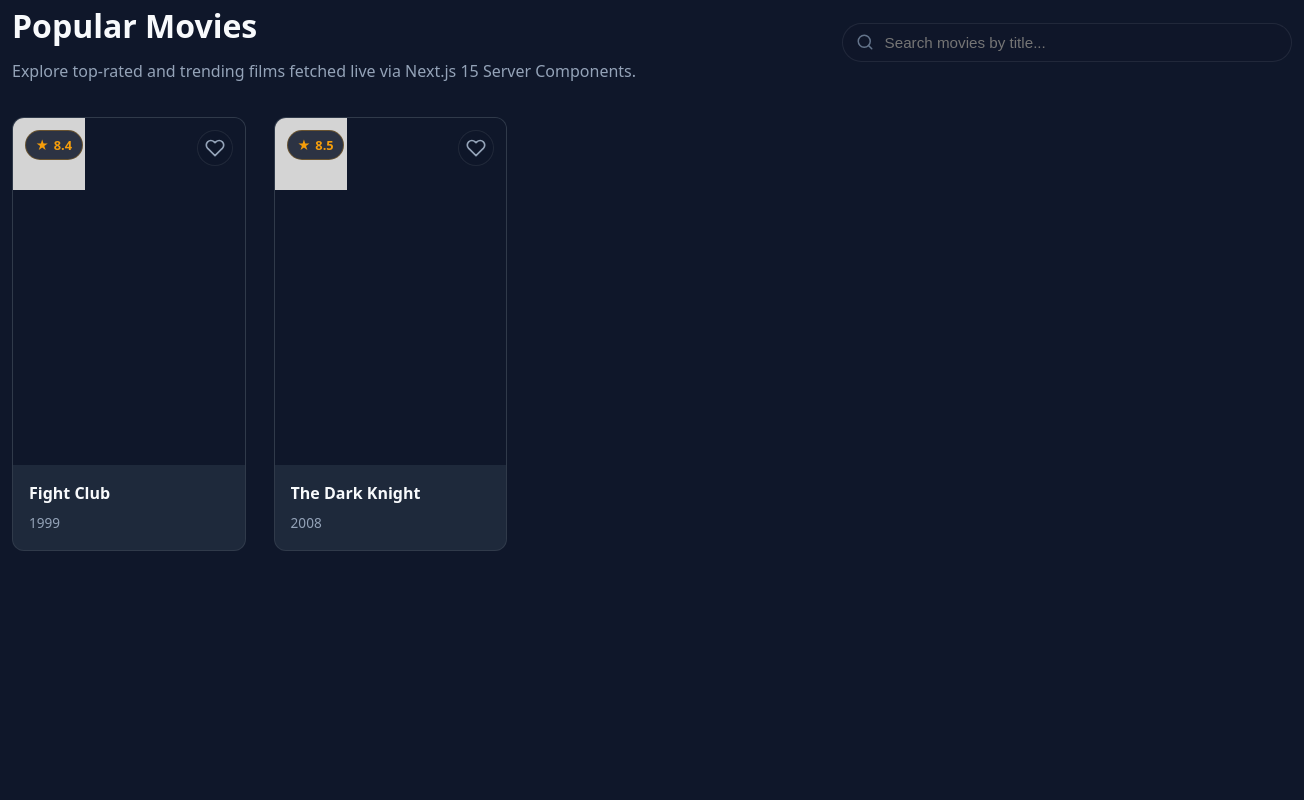
Test case: MovieExplorer Async Component Test › handles API rejection gracefully without crashing
Type "ErrorQuery" into the search field at (1067, 42), box [842,22,1292,62]
Wait 450 ms
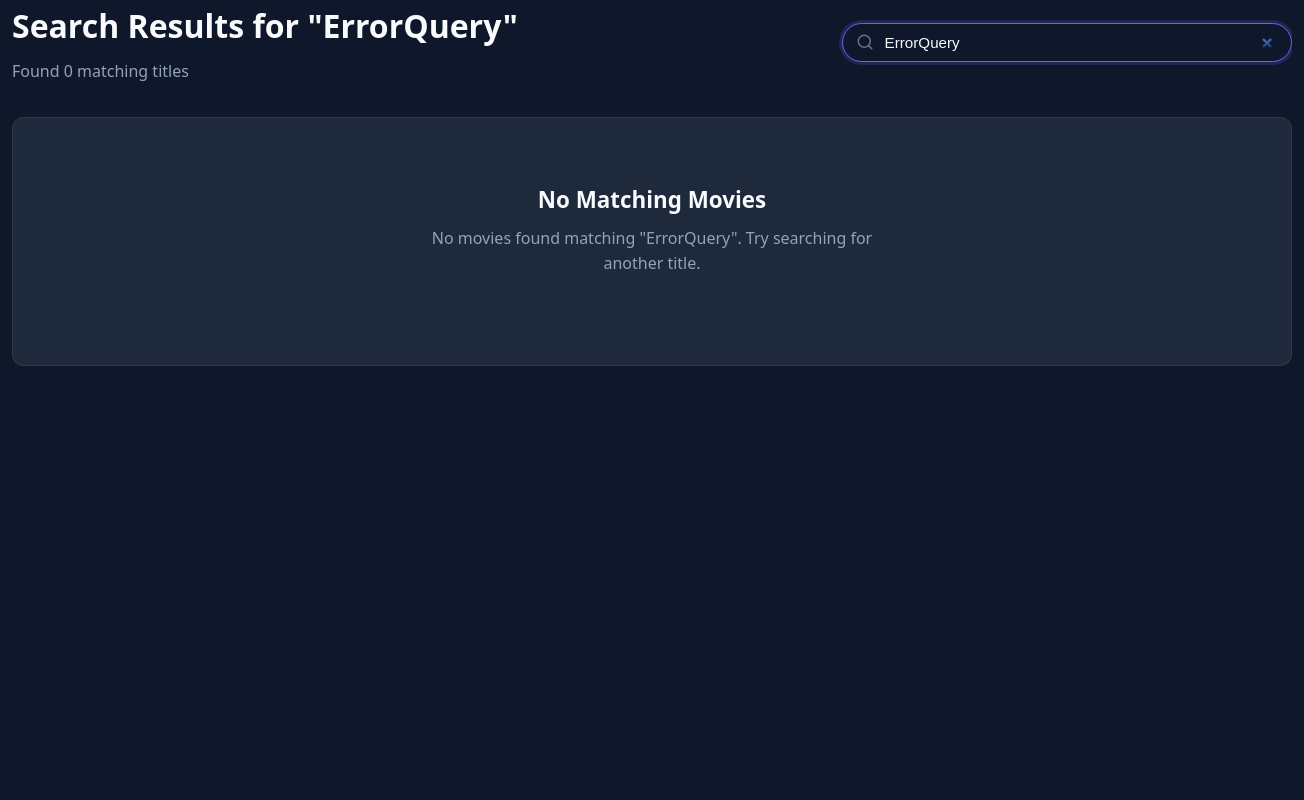
Now the heading "No Matching Movies" is shown, box [538,182,766,218]
